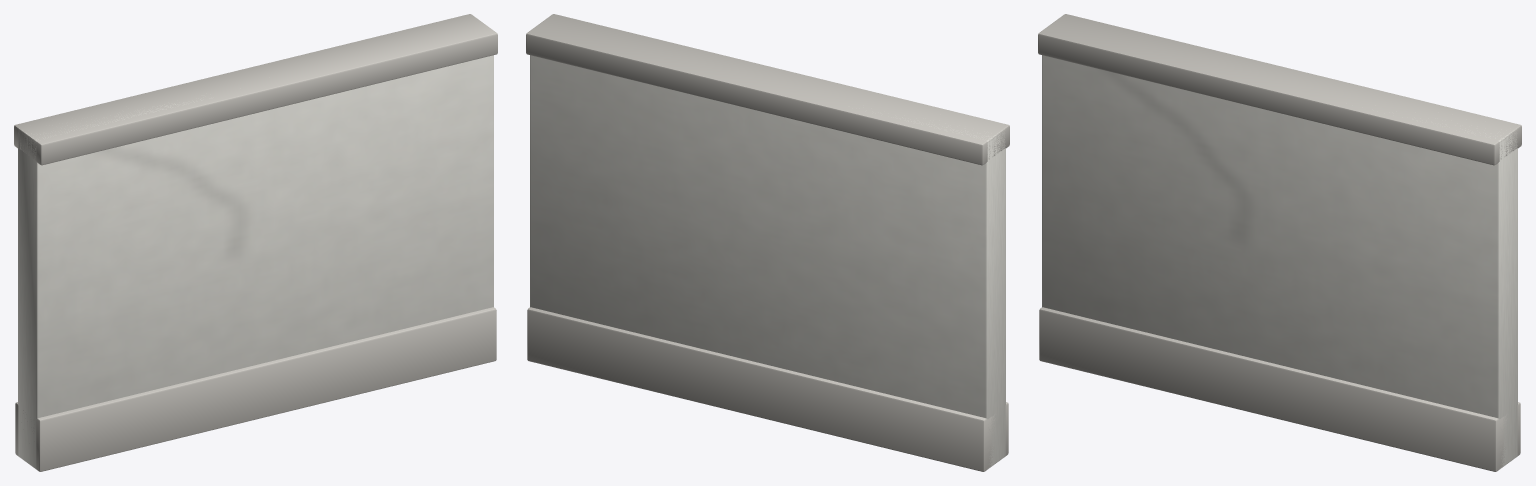
File: th34_wand_voll.glb
3 views of the same model, side by side, from view 1: azimuth 30°, elevation 25°; view 2: azimuth 150°, elevation 25°; view 3: azimuth 330°, elevation 25° (orthographic).
Visible parts, largest first — view 1: Cube, Cube.001, Cube.002; view 2: Cube, Cube.001, Cube.002; view 3: Cube, Cube.001, Cube.002.
Boxes of the visible parts, x1=… form: Cube: x1=18, y1=55, x2=493, y2=469; Cube.001: x1=15, y1=307, x2=496, y2=471; Cube.002: x1=14, y1=14, x2=497, y2=165; Cube: x1=530, y1=55, x2=1005, y2=469; Cube.001: x1=527, y1=307, x2=1008, y2=471; Cube.002: x1=526, y1=14, x2=1009, y2=165; Cube: x1=1042, y1=55, x2=1517, y2=469; Cube.001: x1=1039, y1=307, x2=1520, y2=471; Cube.002: x1=1038, y1=14, x2=1521, y2=165.
Bounding box in the file's own units: 4 × 2.75 × 0.42.
Materials: 2 (1 with a texture image).
